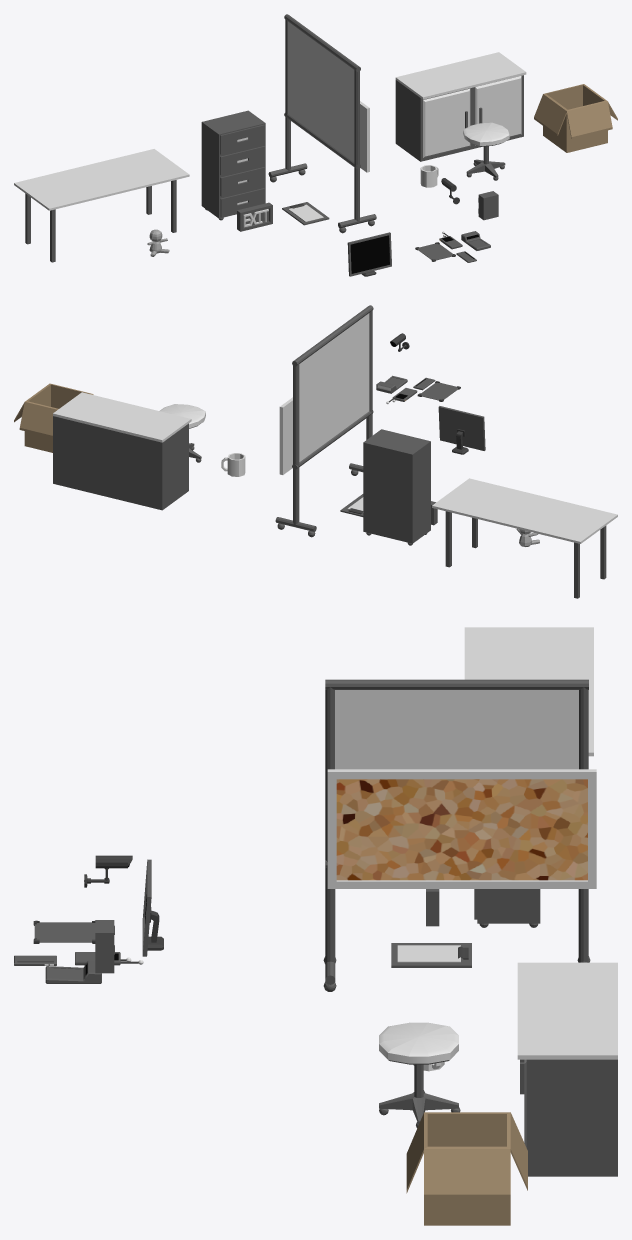
Rendered from ScienceProps.fbx.
3 renders of one model, top to bottom at view 1: azimuth 30°, elevation 25°; view 2: azimuth 150°, elevation 25°; view 3: azimuth 270°, elevation 25°, orthographic. The views are drawn at different scales.
Visible parts, largest first — view 1: Counters, Whiteboard, Table, filingCabinet, CardboardBox, ComputerMonitor, Chair, ExitSign, CorkBoard, Clipboard, TechBox, handheldDevice4 (+1 smaller); view 2: Counters, Whiteboard, Table, filingCabinet, CardboardBox, ComputerMonitor, CorkBoard, Chair, Mug, handheldDevice4; view 3: CorkBoard, Whiteboard, Counters, CardboardBox, Table, Chair, filingCabinet, Clipboard, handheldDevice4, ComputerMonitor, handheldDevice2, TechBox.
Part boxes in pixels (x1,y1,x2,y2): Counters: (395,52,526,161); Whiteboard: (268,14,376,233); Table: (14,149,189,262); filingCabinet: (201,110,265,220); CardboardBox: (534,84,617,152); ComputerMonitor: (347,232,391,276); Chair: (463,122,509,180); ExitSign: (237,202,272,231); CorkBoard: (360,101,369,172); Clipboard: (282,202,329,225); TechBox: (478,191,498,220); handheldDevice4: (415,242,455,261); Counters: (53,392,191,510); Whiteboard: (275,305,373,537); Table: (432,478,617,598); filingCabinet: (363,429,430,545); CardboardBox: (14,383,93,452); ComputerMonitor: (438,406,485,454); CorkBoard: (279,397,292,474); Chair: (159,404,205,462); Mug: (221,453,245,476); handheldDevice4: (417,381,460,401); CorkBoard: (327,769,596,888); Whiteboard: (323,679,590,991); Counters: (517,962,617,1176); CardboardBox: (406,1112,527,1225); Table: (464,627,593,756); Chair: (379,1022,460,1127); filingCabinet: (474,889,540,927); Clipboard: (391,943,471,967); handheldDevice4: (33,920,95,943); ComputerMonitor: (142,859,163,956); handheldDevice2: (45,960,101,983); TechBox: (95,920,114,973).
Bounding box in the file's own units: 9.13 × 2.56 × 4.68.
